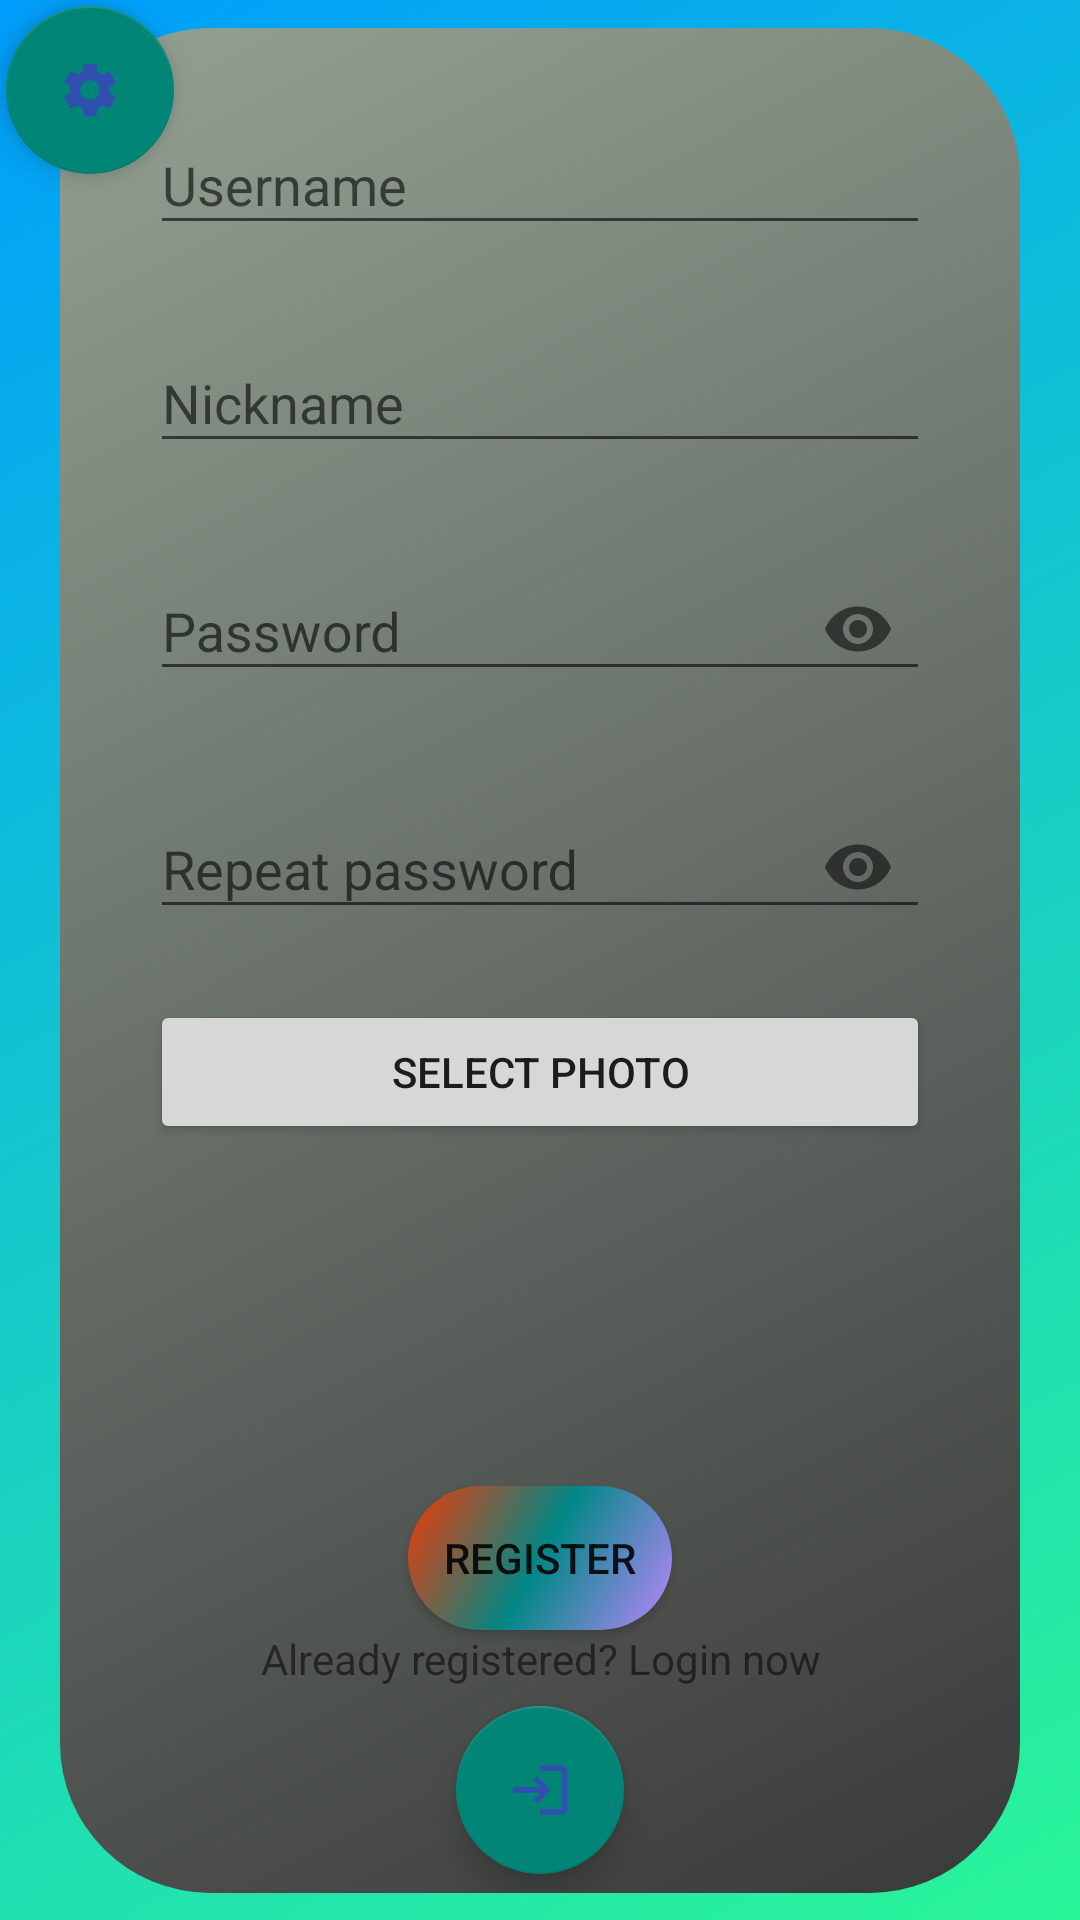

Named icons in this screenshot (1080×1920) and their centers, (x,y):
Settings: (90,90)
